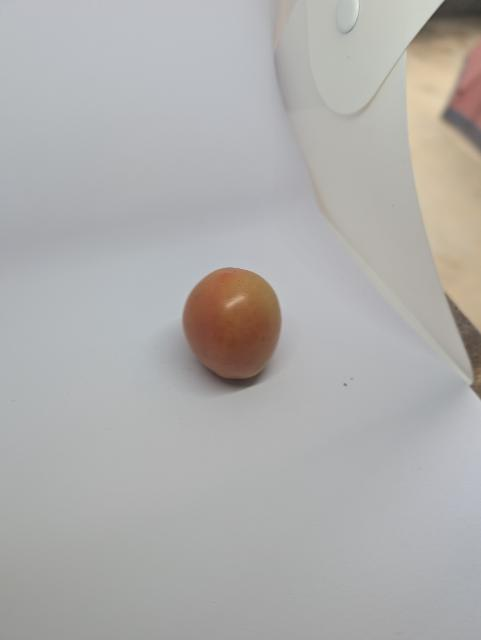turning: (176, 262, 287, 386)
